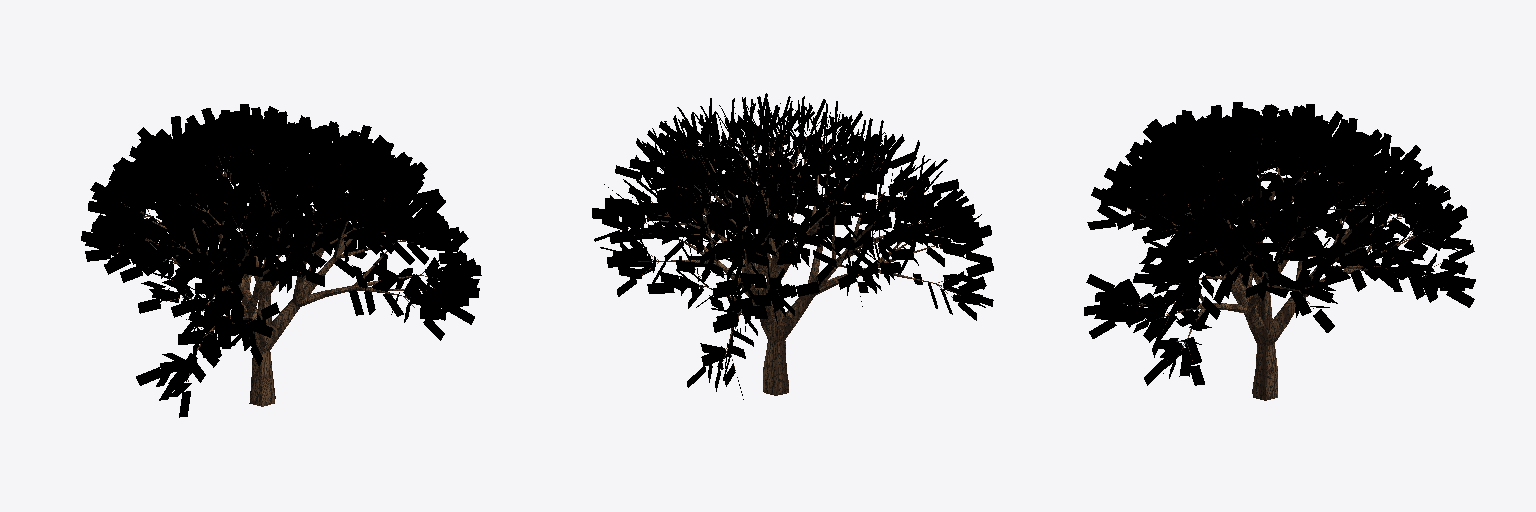
3 views of the same model, side by side, from view 1: azimuth 30°, elevation 25°; view 2: azimuth 150°, elevation 25°; view 3: azimuth 270°, elevation 25° (orthographic).
Visible parts, largest first — view 1: cherryTree1MeshGroup cherryTree1Leaf, cherryTree1Main cherryTree1MeshGroup; view 2: cherryTree1MeshGroup cherryTree1Leaf, cherryTree1Main cherryTree1MeshGroup; view 3: cherryTree1MeshGroup cherryTree1Leaf, cherryTree1Main cherryTree1MeshGroup.
Part boxes in pixels (x1,y1,x2,y2): cherryTree1MeshGroup cherryTree1Leaf: (81,104,481,417); cherryTree1Main cherryTree1MeshGroup: (118,149,437,406); cherryTree1MeshGroup cherryTree1Leaf: (592,93,993,399); cherryTree1Main cherryTree1MeshGroup: (622,126,960,395); cherryTree1MeshGroup cherryTree1Leaf: (1084,102,1475,385); cherryTree1Main cherryTree1MeshGroup: (1123,138,1443,400).
Bounding box in the file's own units: 17.57 × 13.83 × 17.69.
Materials: 2 (1 with a texture image).